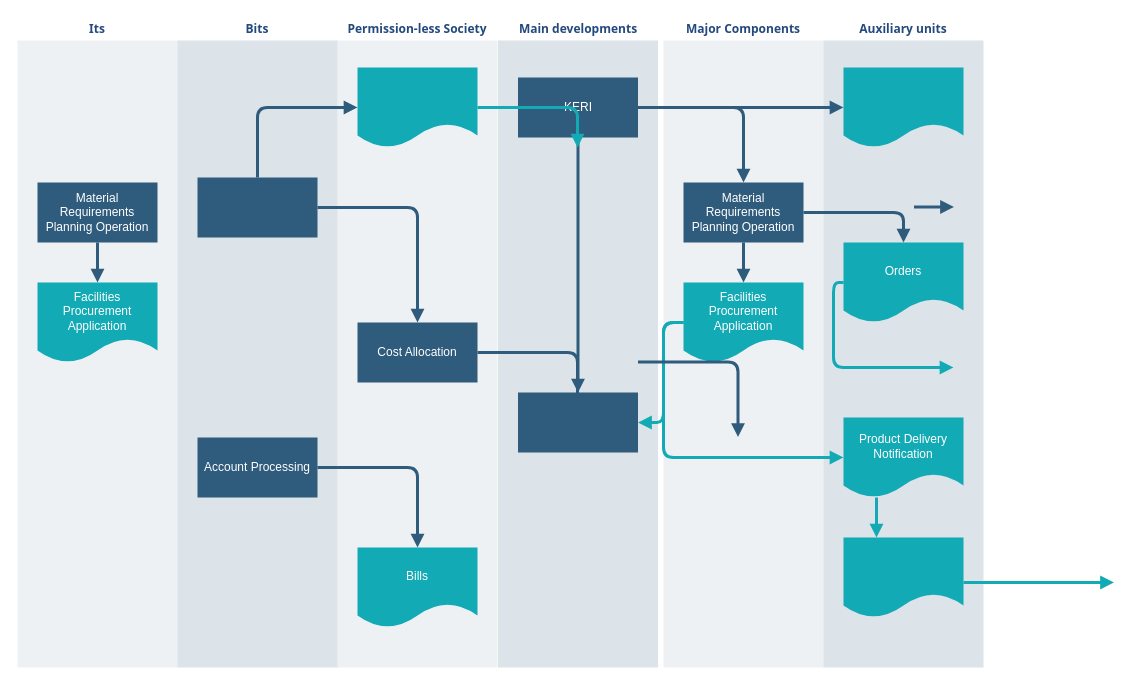
Some shapes in this 1140 by 684 pixel diagram are drawn without their labels. The box of each missing label's shape, as (x1, y1, x2, y2) in pixels:
ACDC: (518, 392, 638, 452)
Invoice: (843, 537, 963, 617)
Outbound Accounting: (197, 177, 317, 237)
Product Quotations: (843, 67, 963, 147)
Sales Contract: (357, 67, 477, 147)
